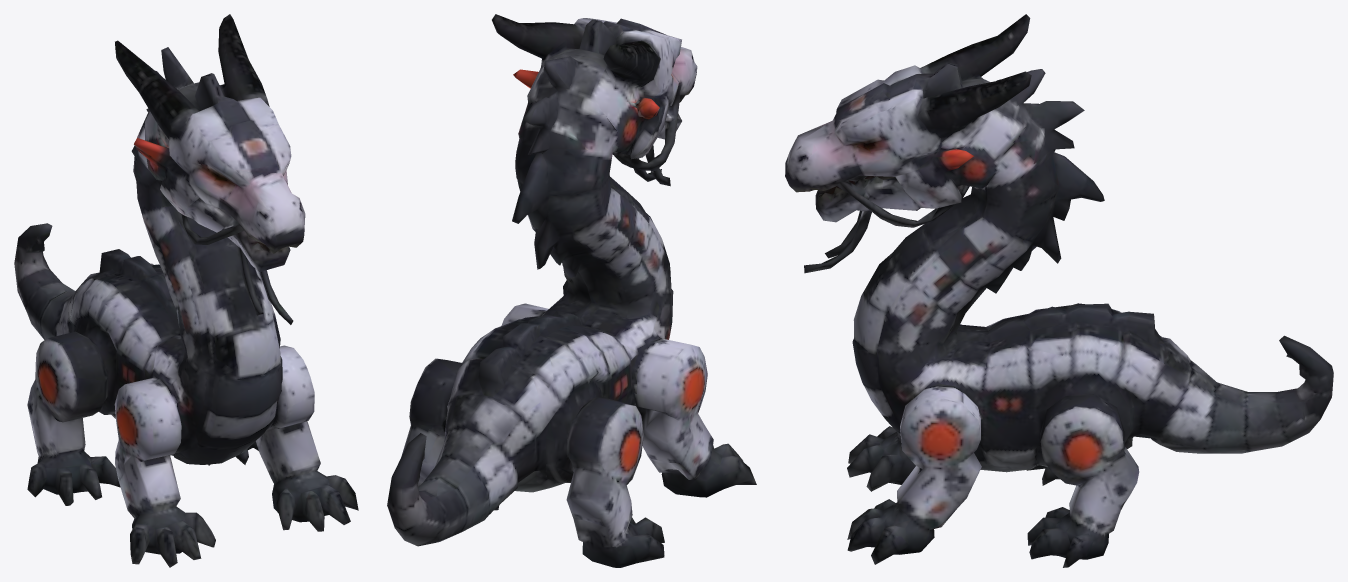
The model's file is detail_14_lo2.glb.
The picture shows the model from 3 angles, left to right: view 1: azimuth 30°, elevation 25°; view 2: azimuth 150°, elevation 25°; view 3: azimuth 270°, elevation 25°; orthographic projection. The views are drawn at different scales.
Parts seen in each view (by area): view 1: Mesh_0.001; view 2: Mesh_0.001; view 3: Mesh_0.001.
Part boxes in pixels (x1,y1,x2,y2): Mesh_0.001: [14, 14, 358, 567]; Mesh_0.001: [387, 14, 756, 567]; Mesh_0.001: [785, 14, 1333, 567].
Bounding box in the file's own units: 0.5323 × 0.9446 × 1.
Materials: 1 (1 with a texture image).
